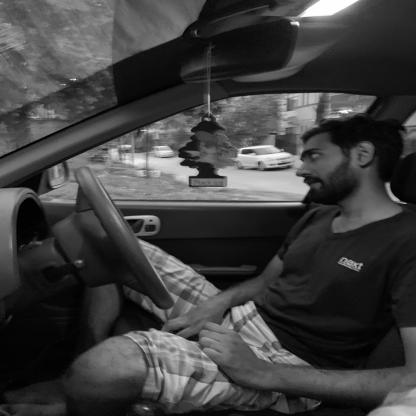no-seatbelt: (259, 110, 399, 312)
